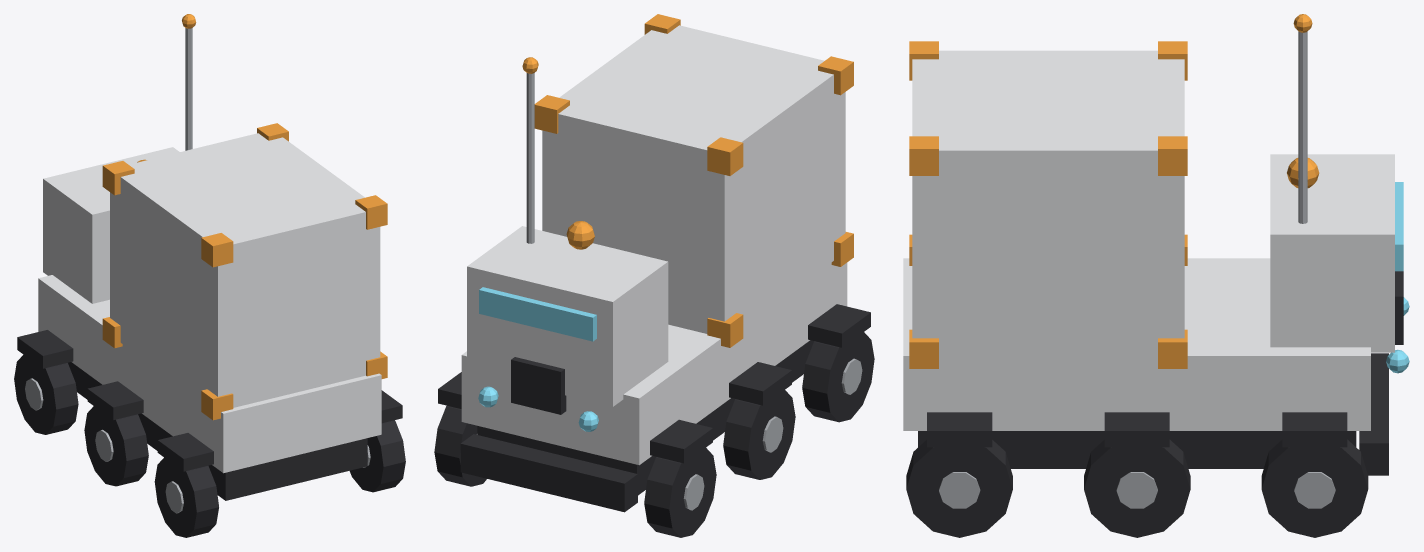
The model's file is SM_Unit_CourierBot.glb.
3 renders of one model, left to right at view 1: azimuth 30°, elevation 25°; view 2: azimuth 150°, elevation 25°; view 3: azimuth 270°, elevation 25°, orthographic. The views are drawn at different scales.
Parts seen in each view (by area): view 1: SM_Unit_CourierBot; view 2: SM_Unit_CourierBot; view 3: SM_Unit_CourierBot.
Boxes of the visible parts, x1=… form: SM_Unit_CourierBot: x1=14, y1=14, x2=405, y2=537; SM_Unit_CourierBot: x1=434, y1=14, x2=874, y2=537; SM_Unit_CourierBot: x1=903, y1=14, x2=1409, y2=537.
Size of the model in its own units: 1.08 by 1.81 by 1.71.
